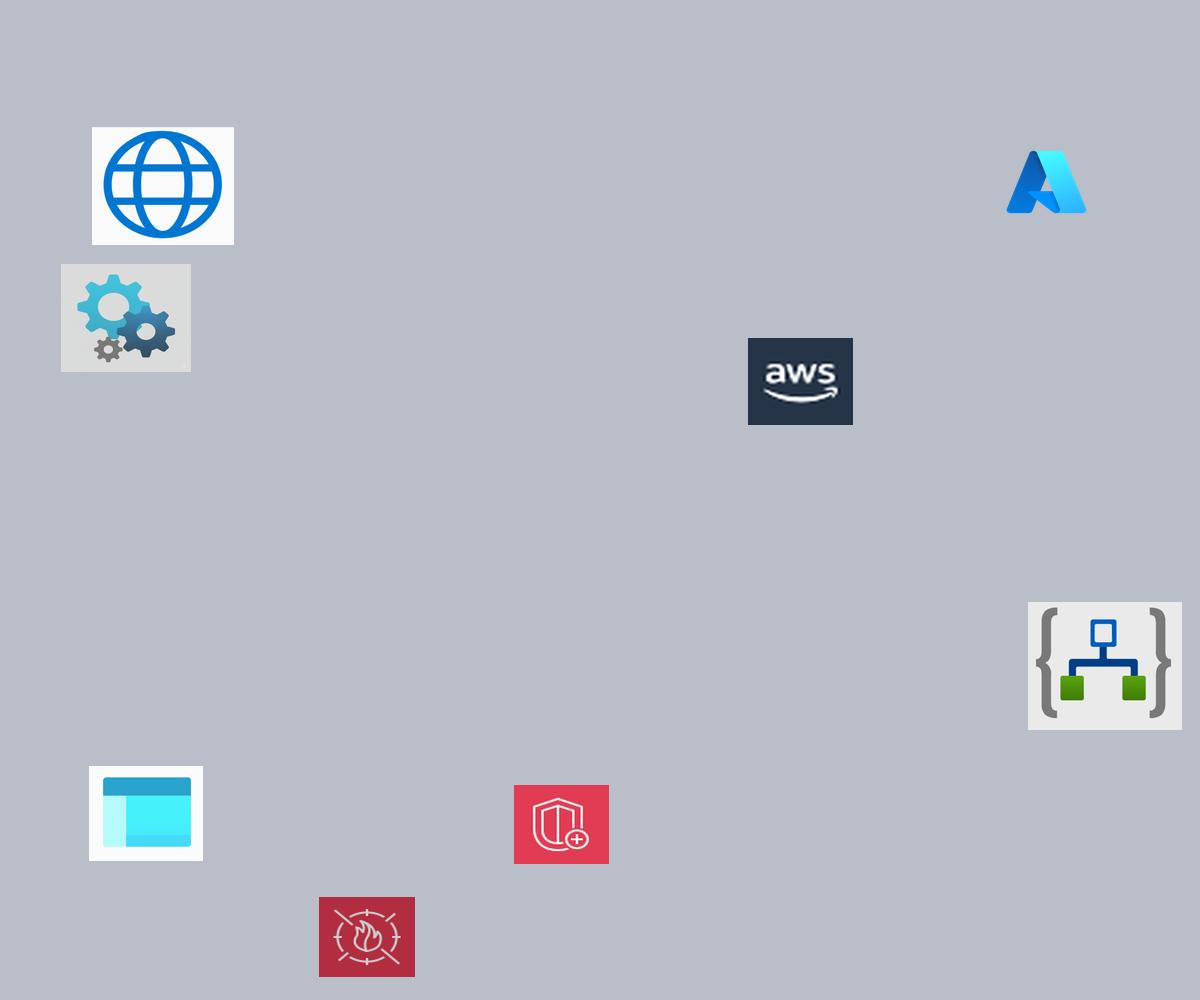AWS-Cloud-logo: (748, 338, 853, 425)
AWS-Shield: (514, 785, 609, 864)
AWS-WAF: (319, 897, 415, 977)
Azure_api: (61, 264, 191, 372)
Azure_http: (92, 127, 234, 245)
Azure_integration-204-Logic-Apps: (1028, 602, 1182, 730)
Azure_management-portal: (89, 766, 203, 861)
Azure_services: (1003, 146, 1090, 218)
